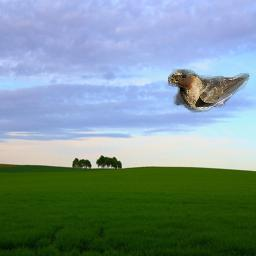Swallow: (168, 69, 250, 113)
